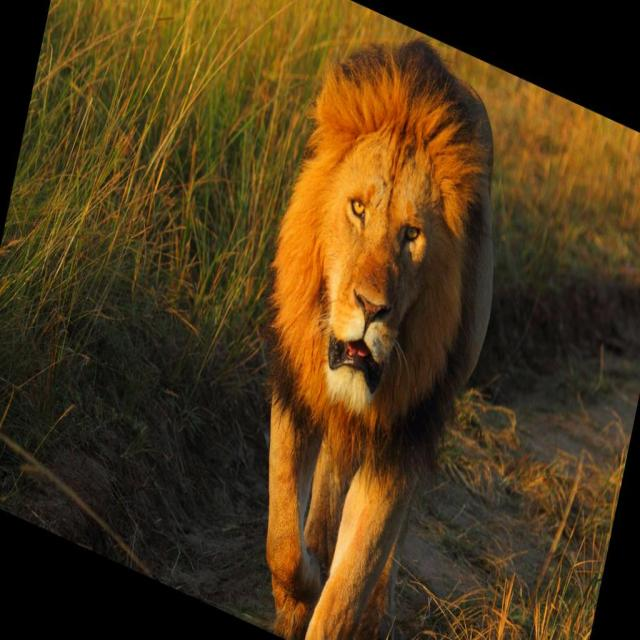Lion: (199, 0, 536, 639)
